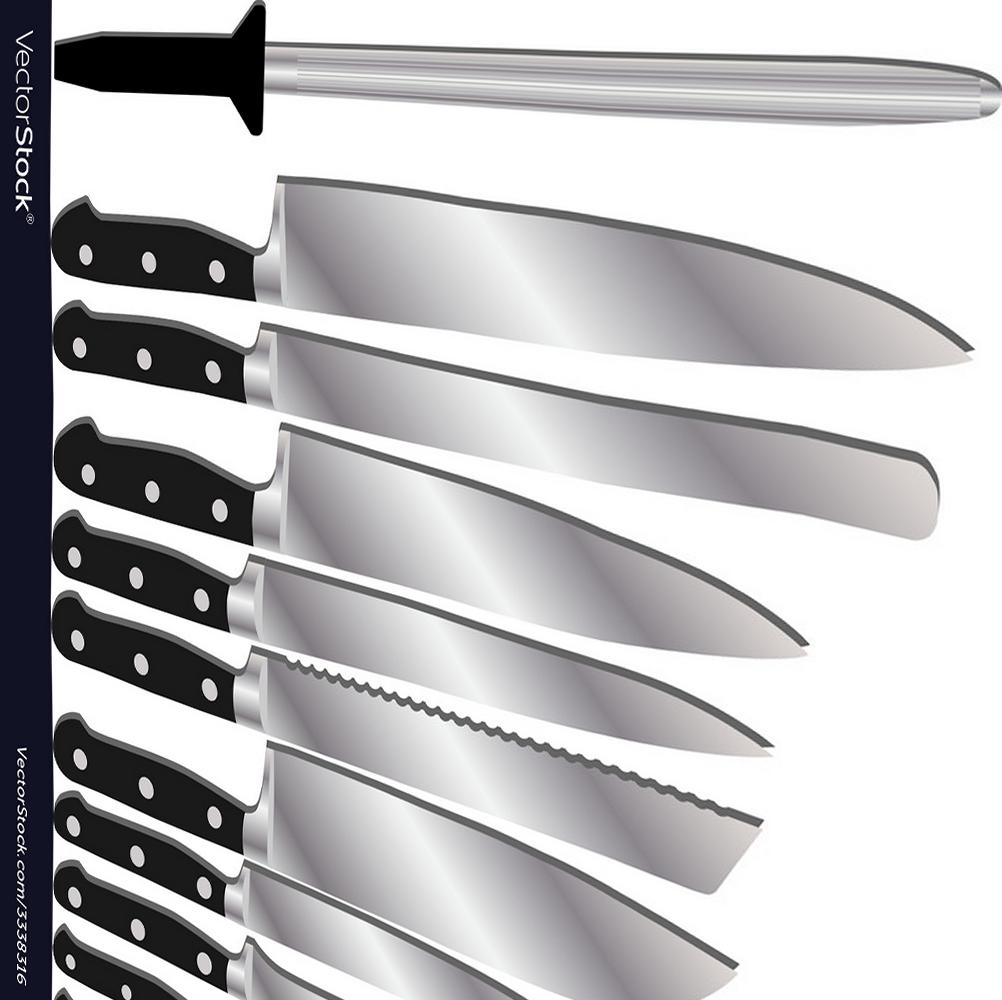knife: (50, 415, 809, 660), (54, 510, 777, 756), (56, 175, 972, 366)
